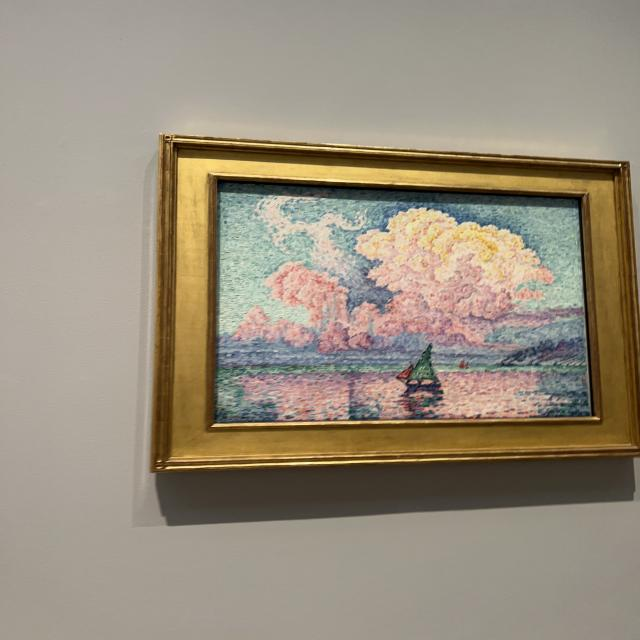sunrise: (222, 196, 588, 417)
